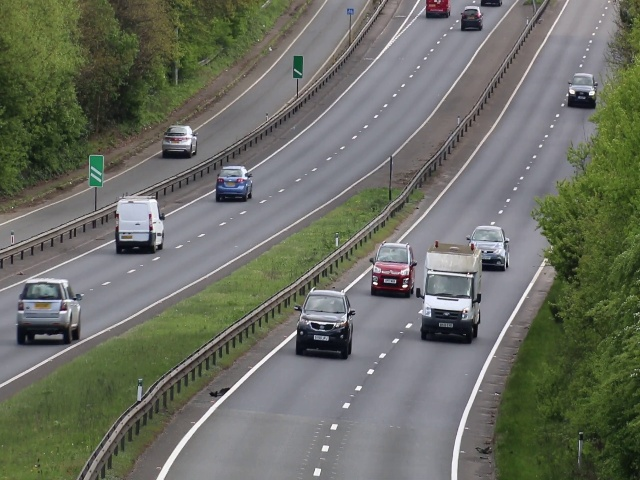car: (420, 240, 481, 344), (16, 278, 84, 343), (297, 287, 353, 362), (113, 195, 168, 254), (369, 242, 416, 299), (469, 224, 510, 273), (215, 164, 252, 203), (161, 122, 199, 157), (565, 70, 597, 108), (459, 7, 485, 31), (424, 1, 452, 18)
